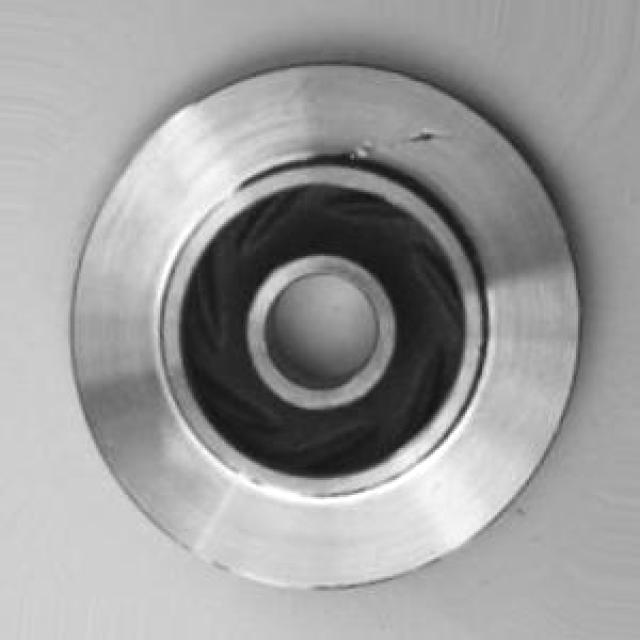Defect: (348, 119, 472, 181)
